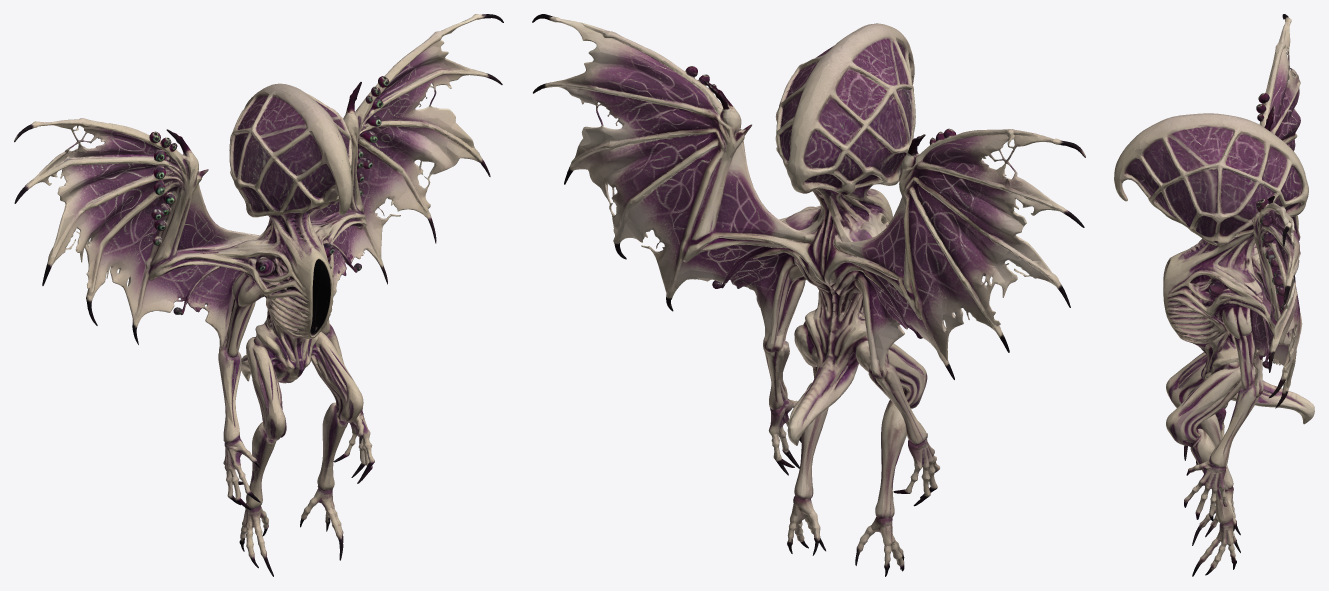
The model's file is seraph-of-the-wound.glb.
The picture shows the model from 3 angles, left to right: view 1: azimuth 30°, elevation 25°; view 2: azimuth 150°, elevation 25°; view 3: azimuth 270°, elevation 25°; orthographic projection. The views are drawn at different scales.
Parts seen in each view (by area): view 1: Mesh_0; view 2: Mesh_0; view 3: Mesh_0.
Part boxes in pixels (x1=…): Mesh_0: x1=14, y1=14, x2=503, y2=576; Mesh_0: x1=532, y1=14, x2=1085, y2=576; Mesh_0: x1=1114, y1=14, x2=1314, y2=576.
Bounding box in the file's own units: 1.9 × 1.74 × 0.7096.
Materials: 1 (1 with a texture image).
